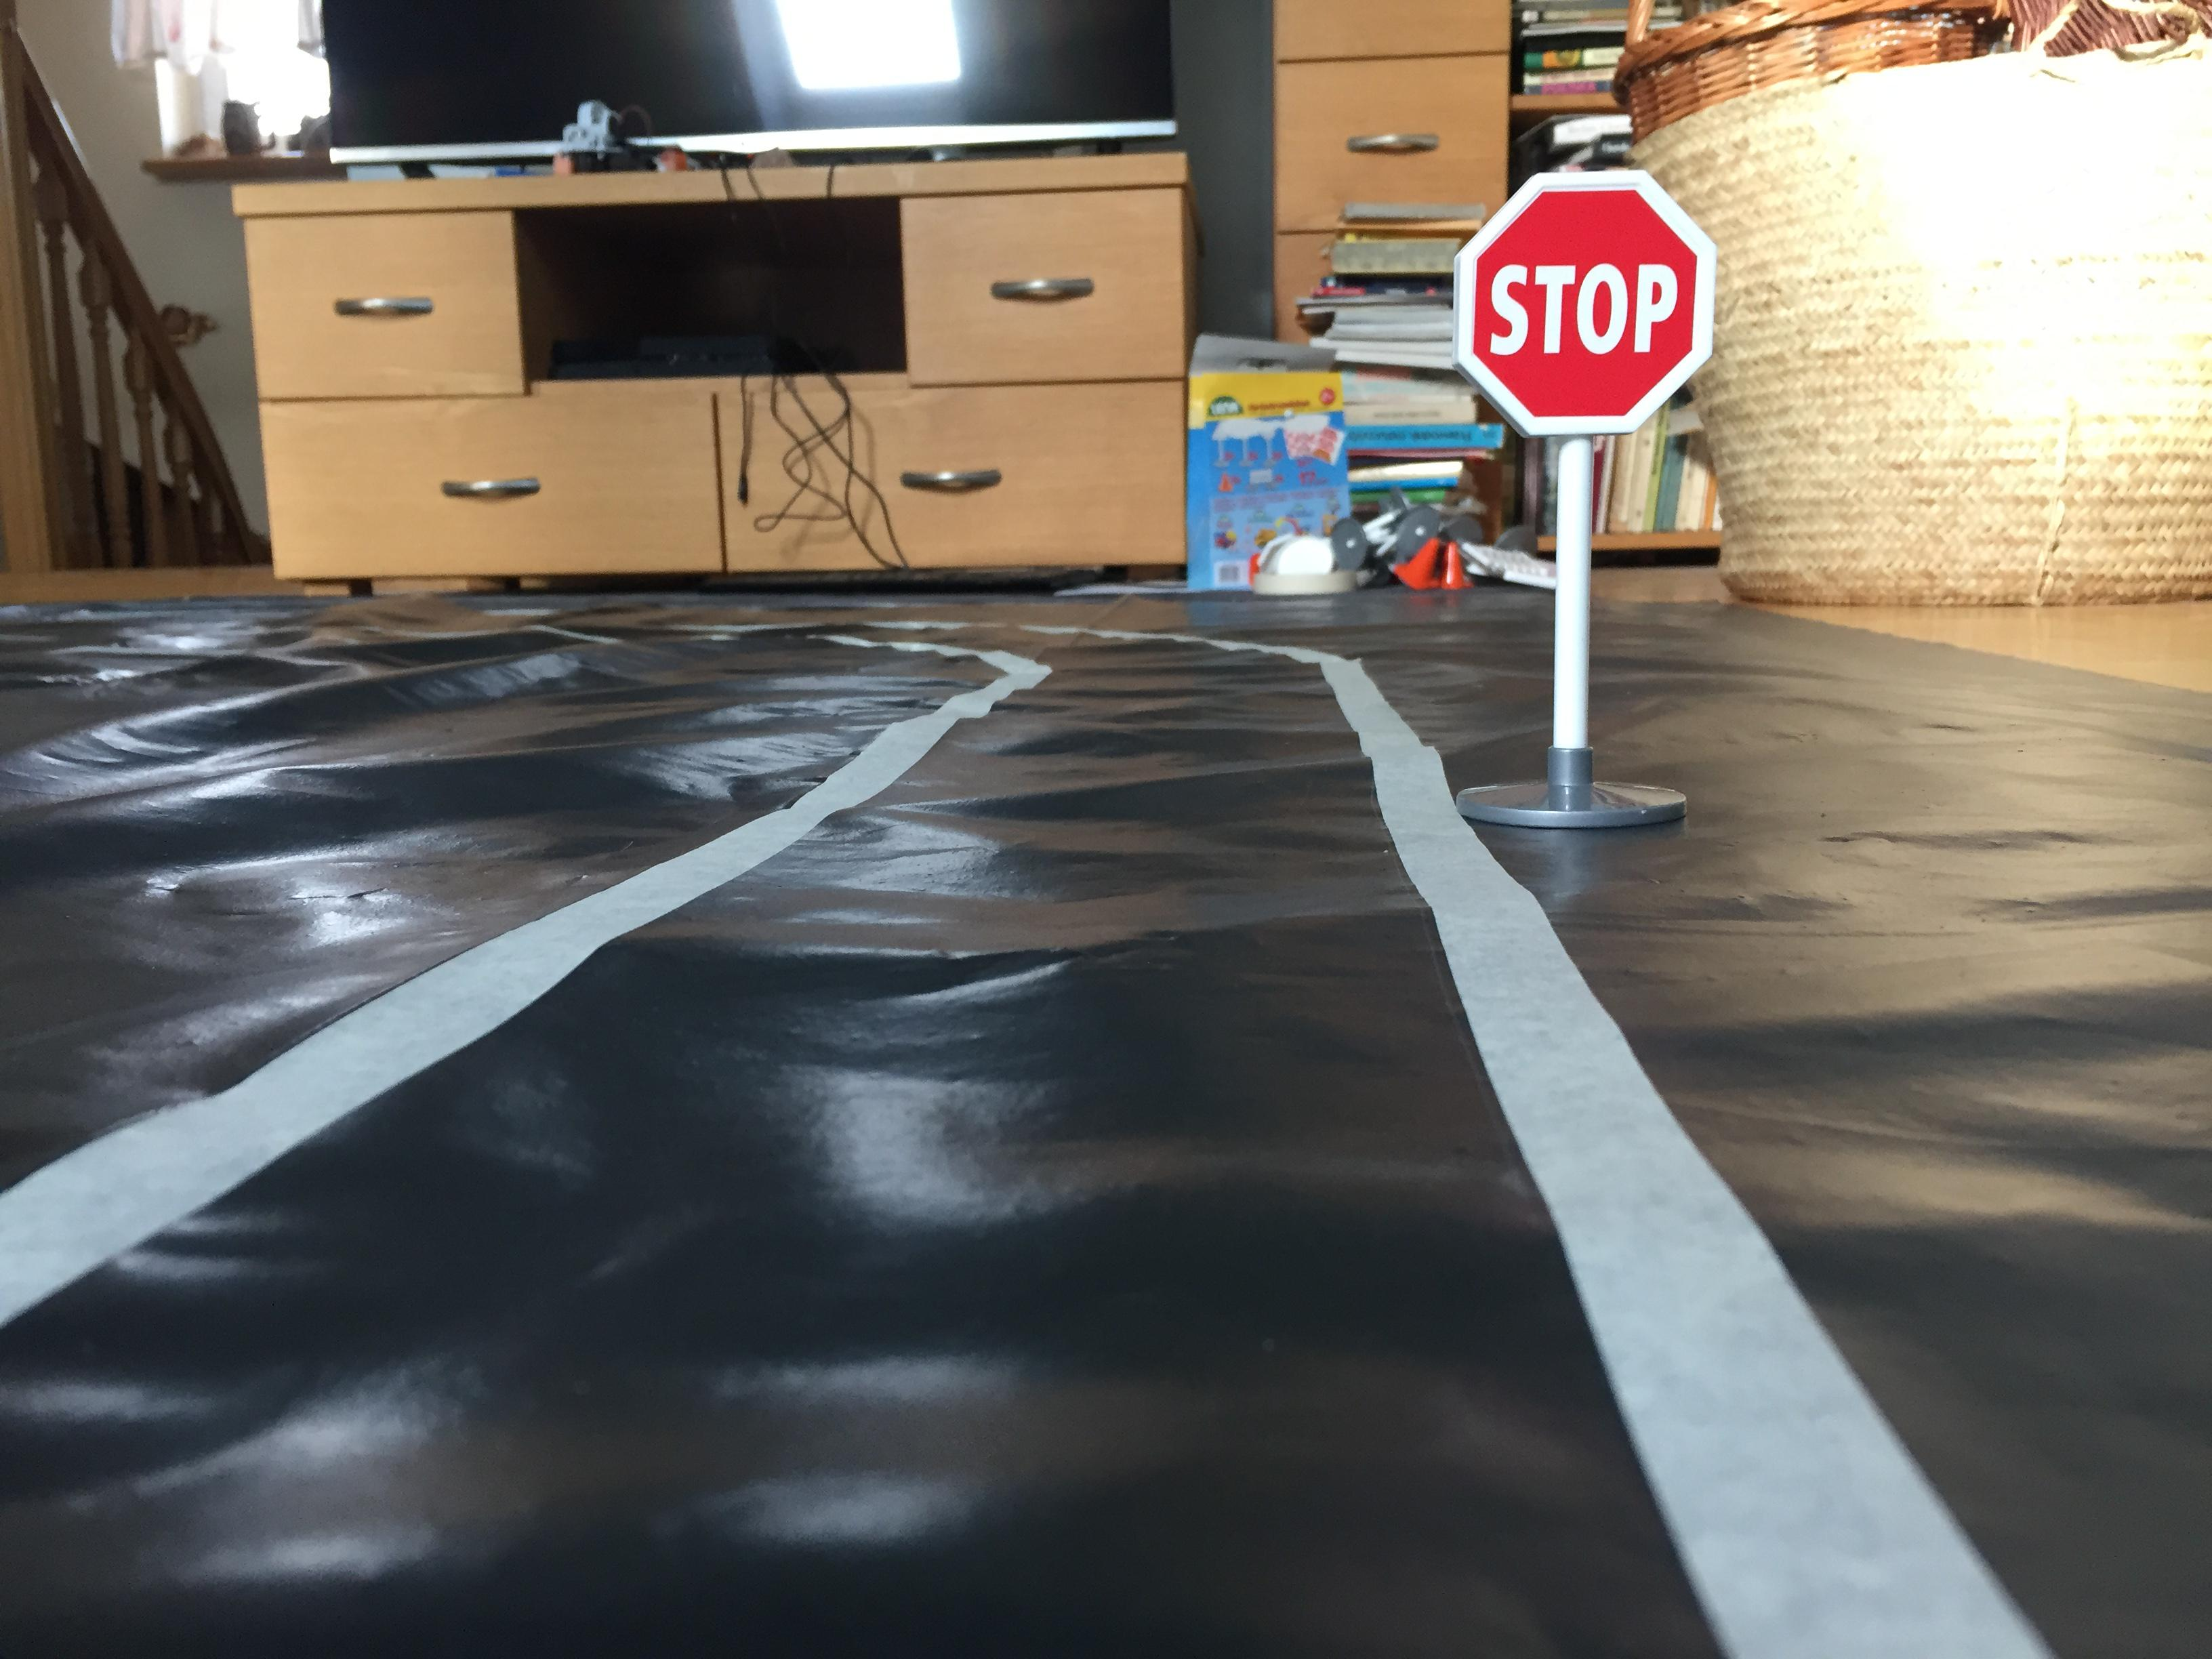stop: (1442, 162, 1730, 446)
